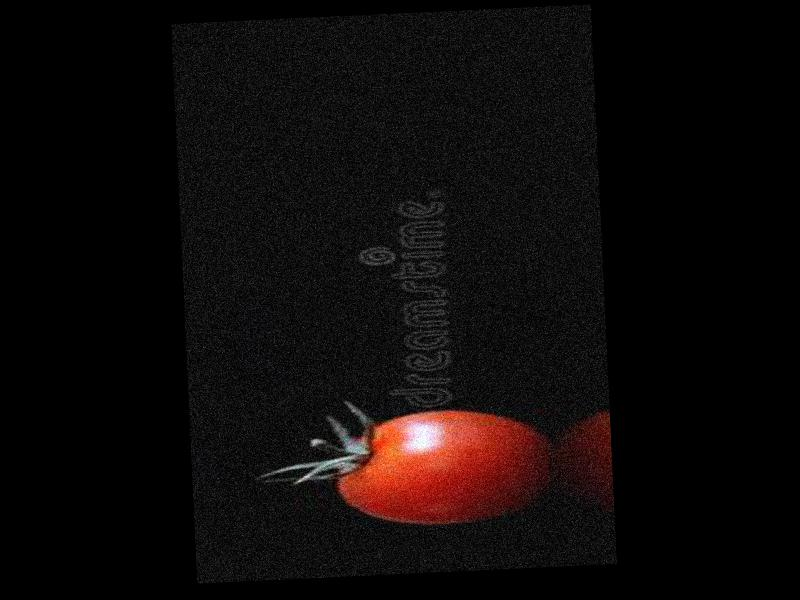Tomato: (333, 405, 551, 528)
